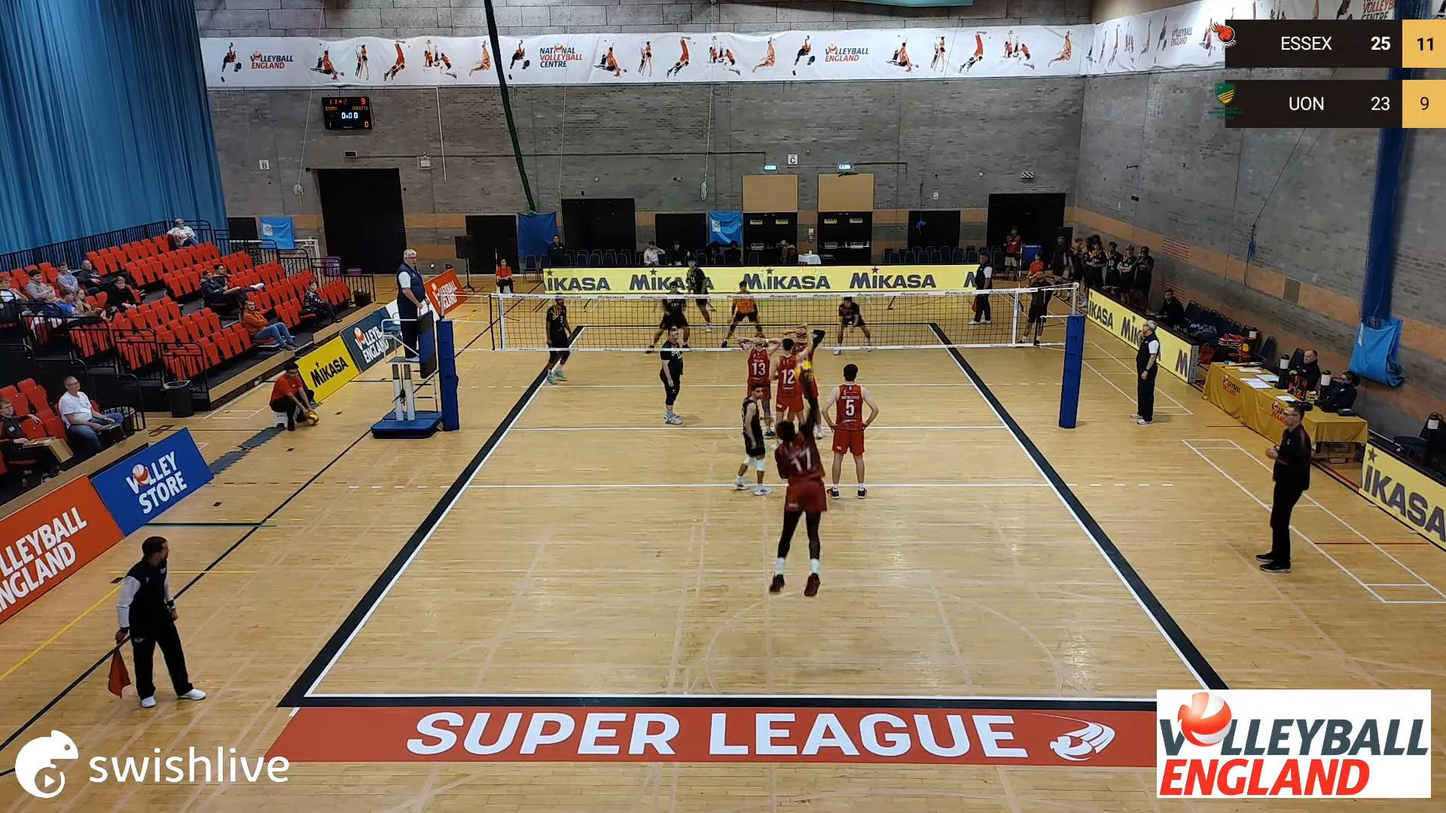battuta: (767, 362, 826, 601)
